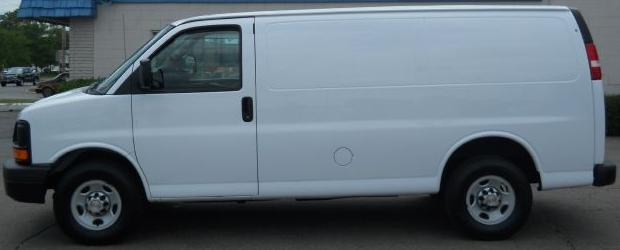backlight: (557, 7, 608, 78)
headlight: (9, 116, 36, 164)
side_glass: (125, 22, 245, 97)
